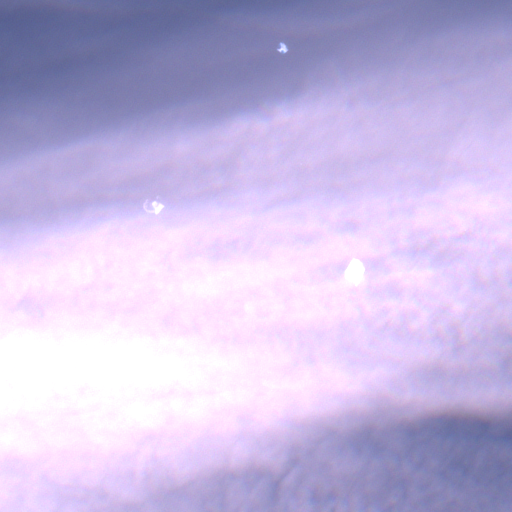Iceberg: (345, 258, 364, 286), (152, 201, 164, 213), (277, 42, 287, 53)
